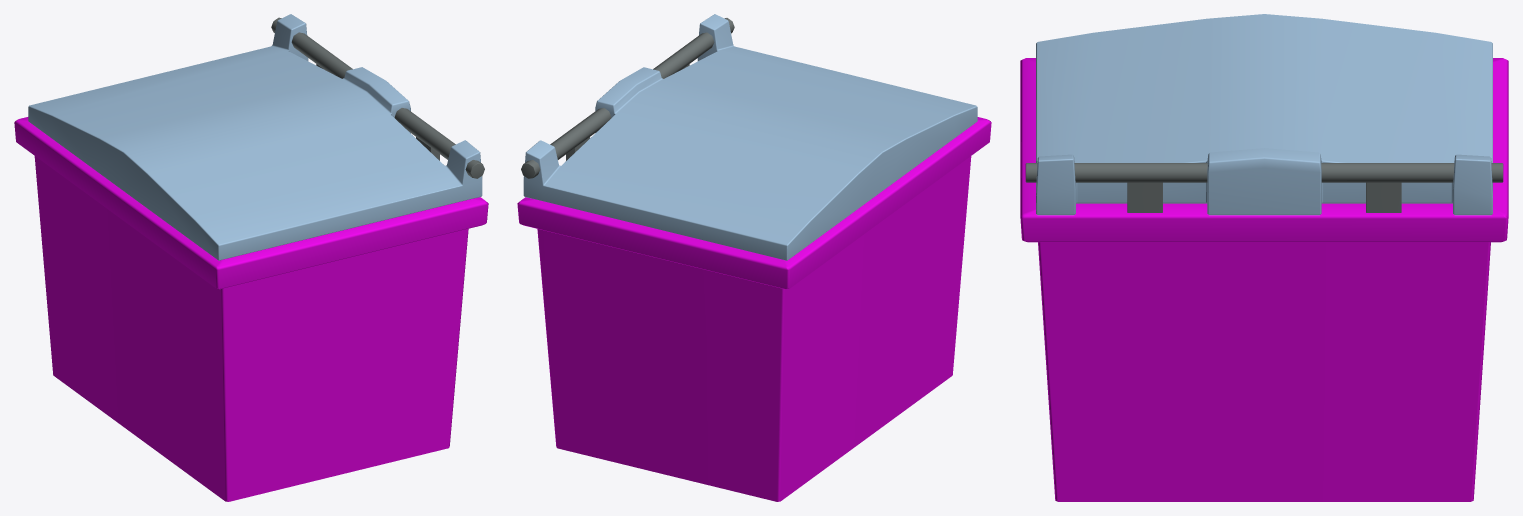
Rendered from Garbage@open.fbx.
3 renders of one model, left to right at view 1: azimuth 30°, elevation 25°; view 2: azimuth 150°, elevation 25°; view 3: azimuth 270°, elevation 25°, orthographic. The views are drawn at different scales.
Visible parts, largest first — view 1: Base, pCube80; view 2: Base, pCube80; view 3: Base, pCube80.
Part boxes in pixels (x1,y1,x2,y2): Base: (14,17,488,501); pCube80: (28,14,482,260); Base: (517,18,991,501); pCube80: (523,14,977,260); Base: (1020,58,1508,501); pCube80: (1036,14,1492,215).
Bounding box in the file's own units: 1.87 × 1.96 × 2.42.
